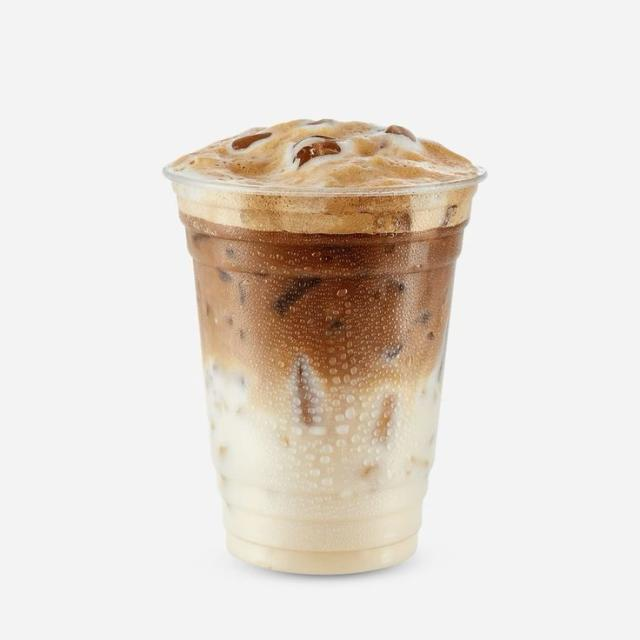plastic cup: (162, 118, 487, 576)
